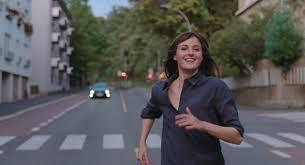Persons: (161, 28, 219, 84)
